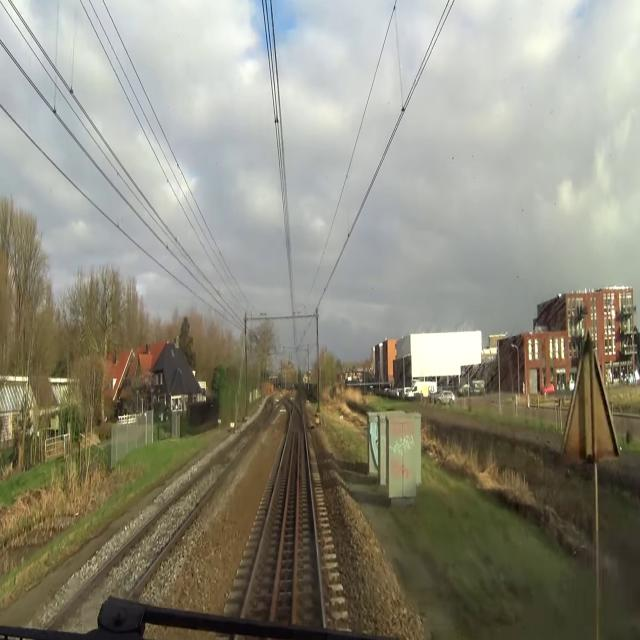rail-track: (41, 399, 271, 639), (243, 409, 321, 629), (275, 444, 295, 626)
